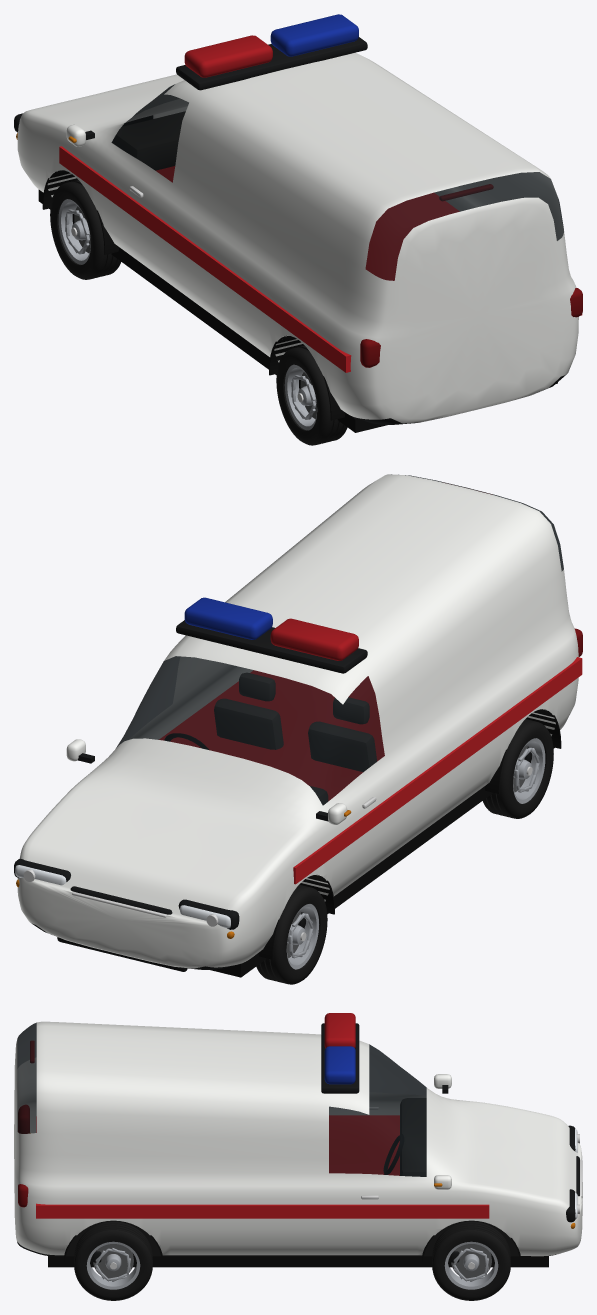
File: Ambulance.fbx
3 renders of one model, top to bottom at view 1: azimuth 30°, elevation 25°; view 2: azimuth 150°, elevation 25°; view 3: azimuth 270°, elevation 25°, orthographic. The views are drawn at different scales.
Parts seen in each view (by area): view 1: Ambulance_Body, Wheel_RL, Wheel_FL, Siren_L, Siren_R, Lamp_Brake; view 2: Ambulance_Body, Wheel_FL, Wheel_RL, Siren_R, Siren_L, Lamp_Head; view 3: Ambulance_Body, Wheel_FR, Wheel_RR, Siren_R, Siren_L, Lamp_Brake, Lamp_Head.
Part boxes in pixels (<box>): Ambulance_Body: <box>17,37,582,432</box>; Wheel_RL: <box>276,345,347,445</box>; Wheel_FL: <box>50,180,120,279</box>; Siren_L: <box>184,35,272,77</box>; Siren_R: <box>270,14,358,56</box>; Lamp_Brake: <box>360,184,582,367</box>; Ambulance_Body: <box>17,474,582,977</box>; Wheel_FL: <box>256,884,327,984</box>; Wheel_RL: <box>483,719,553,818</box>; Siren_R: <box>184,597,272,639</box>; Siren_L: <box>270,618,358,660</box>; Lamp_Head: <box>14,858,239,929</box>; Ambulance_Body: <box>14,1021,582,1267</box>; Wheel_FR: <box>432,1221,510,1300</box>; Wheel_RR: <box>74,1221,152,1300</box>; Siren_R: <box>324,1046,355,1084</box>; Siren_L: <box>324,1013,355,1048</box>; Lamp_Brake: <box>18,1041,34,1207</box>; Lamp_Head: <box>566,1125,579,1222</box>.
Bounding box in the file's own units: 2.13 × 1.99 × 4.77.
